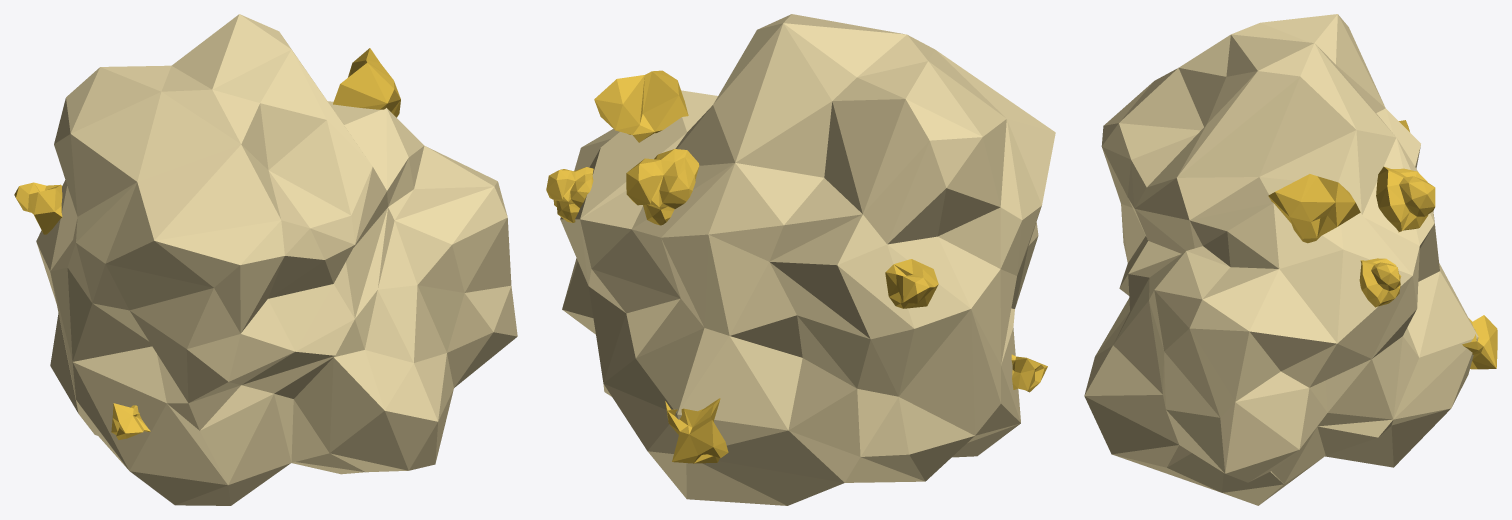
File: MetalOre (54).fbx
The picture shows the model from 3 angles, left to right: view 1: azimuth 30°, elevation 25°; view 2: azimuth 150°, elevation 25°; view 3: azimuth 270°, elevation 25°; orthographic projection. The views are drawn at different scales.
Visible parts, largest first — view 1: Asteroid409; view 2: Asteroid409; view 3: Asteroid409.
Boxes of the visible parts, left/top/right/bottom form: Asteroid409: left=14, top=14, right=517, bottom=505; Asteroid409: left=546, top=14, right=1055, bottom=505; Asteroid409: left=1084, top=14, right=1497, bottom=505.
Bounding box in the file's own units: 346 × 356 × 310.
